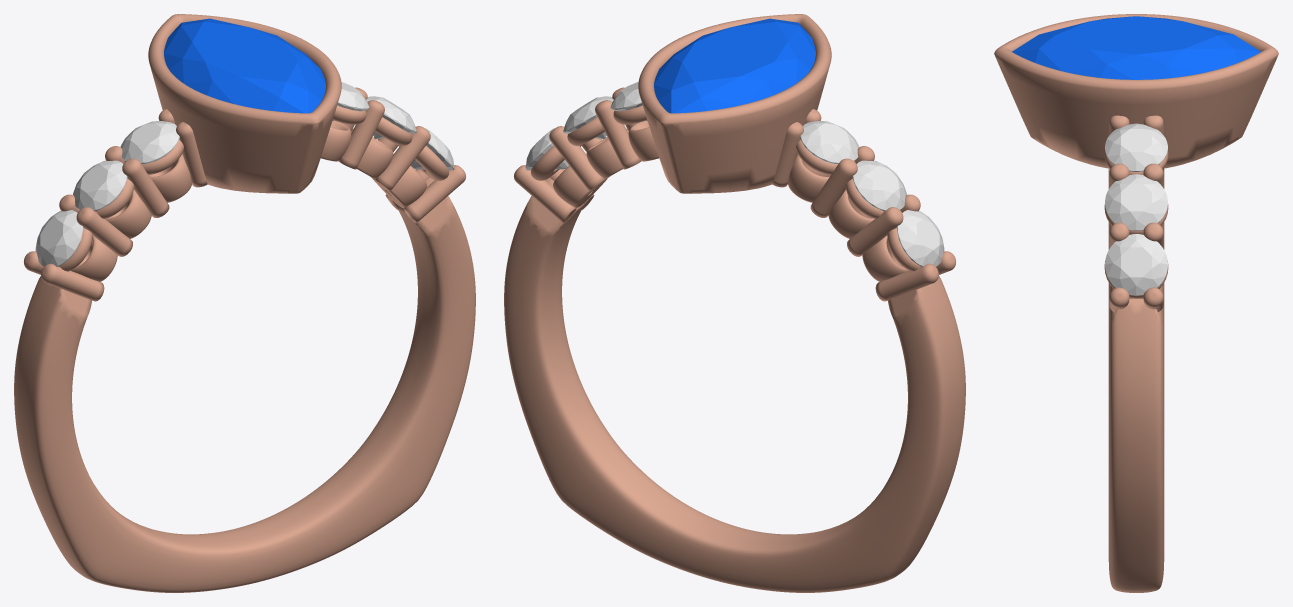
File: bluesapphire-marquise-rosegold-bezelset-europeanshank-7stone.glb
The picture shows the model from 3 angles, left to right: view 1: azimuth 30°, elevation 25°; view 2: azimuth 150°, elevation 25°; view 3: azimuth 270°, elevation 25°; orthographic projection.
Visible parts, largest first — view 1: metal.002, stone.001, side.002, side.013, side.014, side.016, side.017; view 2: metal.002, stone.001, side.002, side.013, side.014, side.016, side.017; view 3: metal.002, stone.001, side.015, side.016, side.017.
Part boxes in pixels (x1,y1,x2,y2): metal.002: (14,14,475,592); stone.001: (164,18,325,113); side.002: (35,210,83,266); side.013: (73,160,127,211); side.014: (120,121,179,164); side.016: (366,96,416,139); side.017: (332,81,369,121); metal.002: (504,14,965,592); stone.001: (654,18,815,113); side.002: (896,210,944,266); side.013: (852,160,906,211); side.014: (800,121,859,164); side.016: (563,96,613,139); side.017: (610,81,647,121); metal.002: (994,14,1278,592); stone.001: (1012,16,1260,79); side.015: (1105,234,1167,295); side.016: (1105,174,1167,230); side.017: (1105,123,1167,171).
Size of the model in its own units: 20.1 by 22.73 by 11.31.
